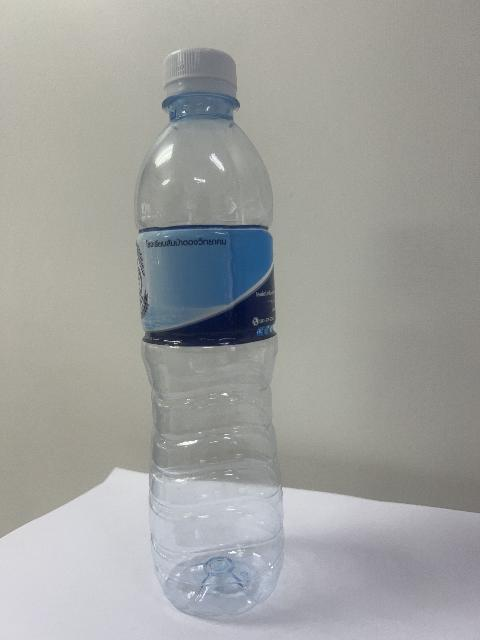bottle: (136, 49, 283, 616)
